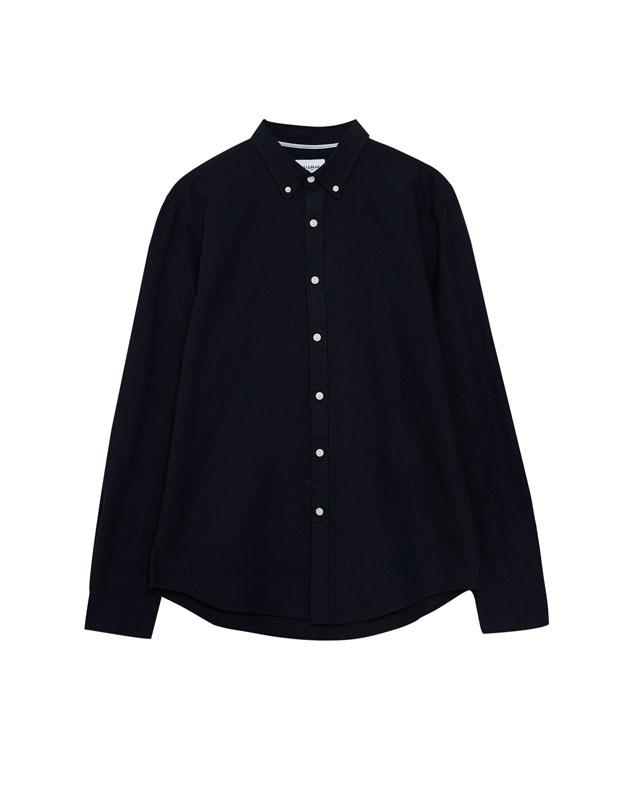teeshirt: (90, 111, 561, 652)
